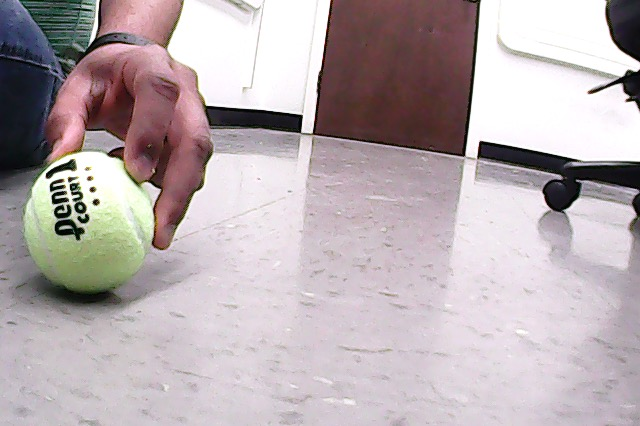ball: (25, 152, 156, 292)
